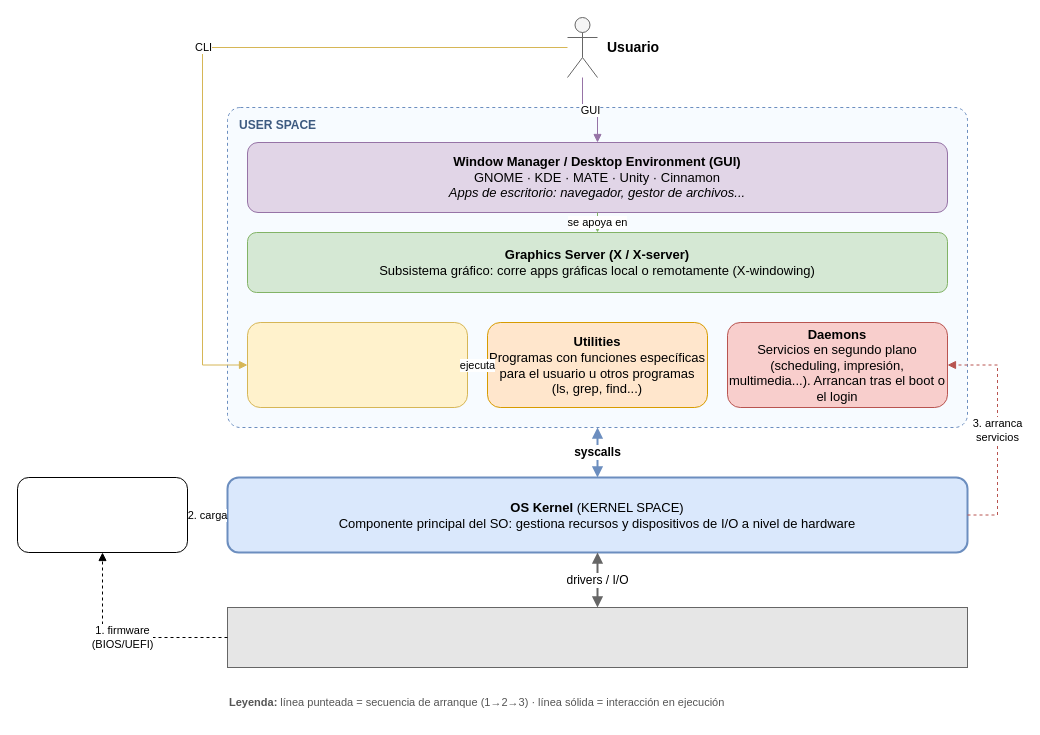
Some shapes in this 1040 by 735 pixel diagram are drawn without their labels. The shapes that lost their labels are listed below. From the top down, each one's centre as x and y in pixels, then its label:
At pixel 357 365: "OS Shell (CLI) Intérprete de comandos: Bash · Zsh · Ksh · Tcsh/Csh · Fish".
At pixel 102 514: "Bootloader Guía el arranque y carga el SO (Parrot usa GRUB)".
At pixel 597 637: "Hardware CPU · RAM · Disco · Red · Periféricos".
